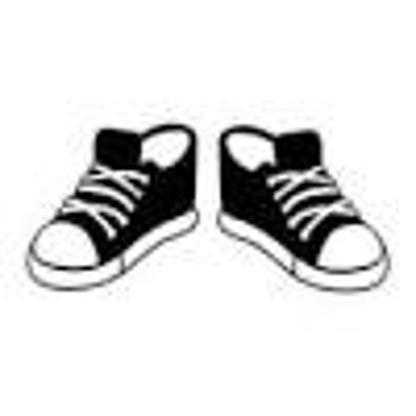not trash: (214, 119, 398, 304), (20, 116, 204, 298)
